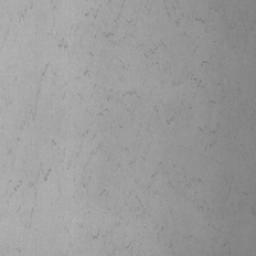Silk spot: (191, 74, 205, 88), (58, 38, 68, 49), (44, 168, 52, 181), (103, 32, 114, 38)
